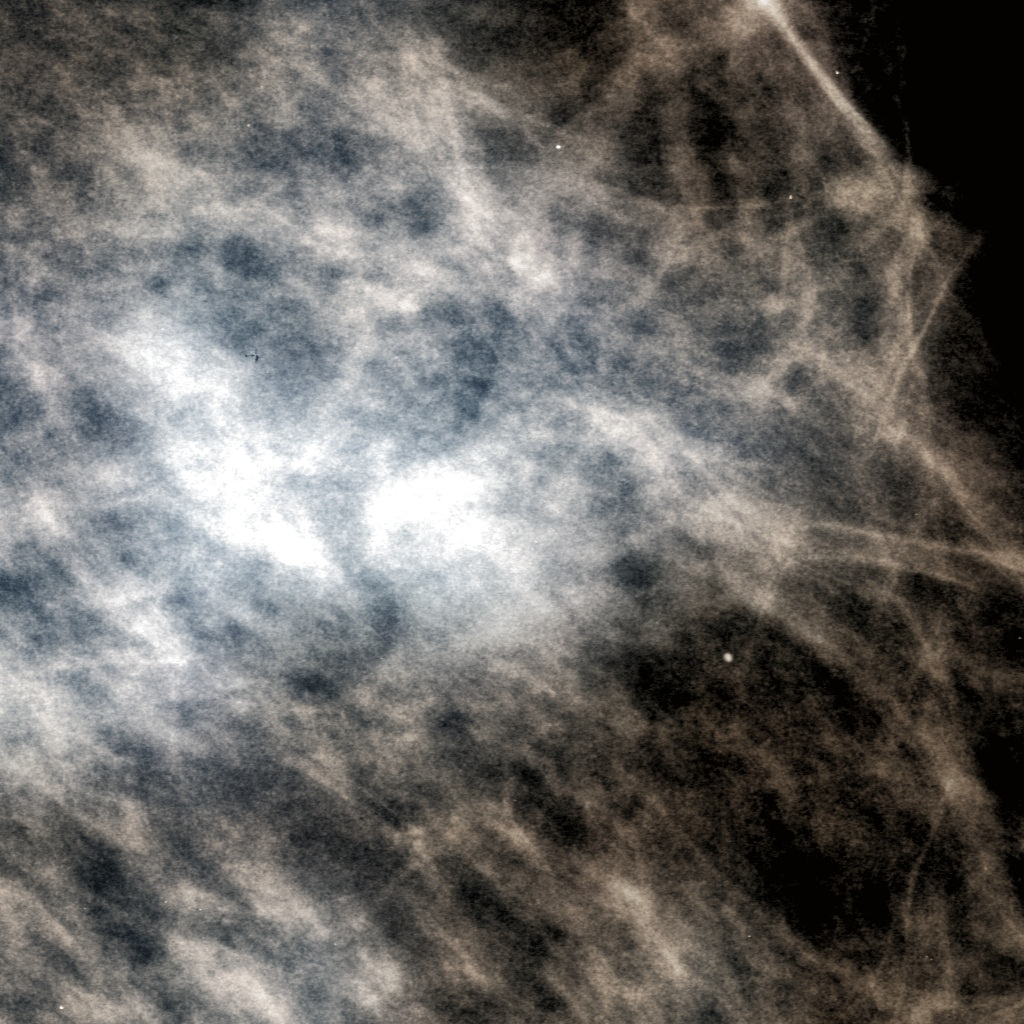tumor: (352, 329, 672, 695)
